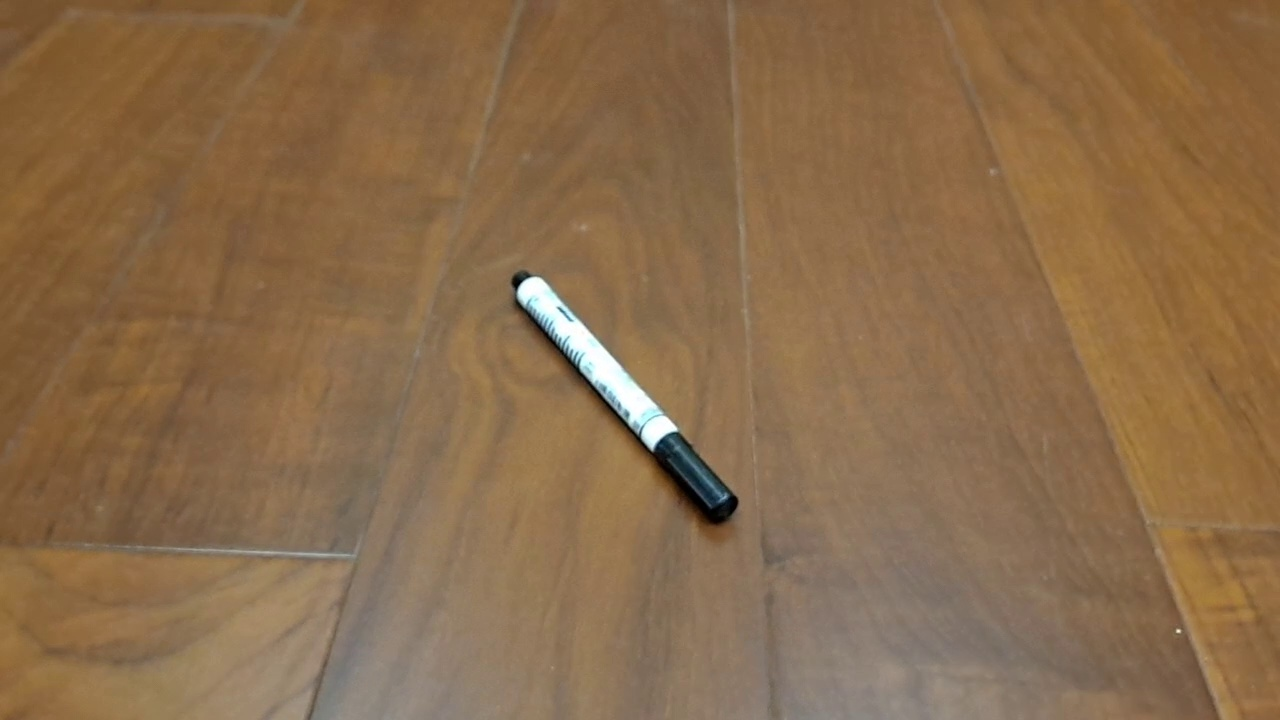pen: (510, 270, 739, 525)
